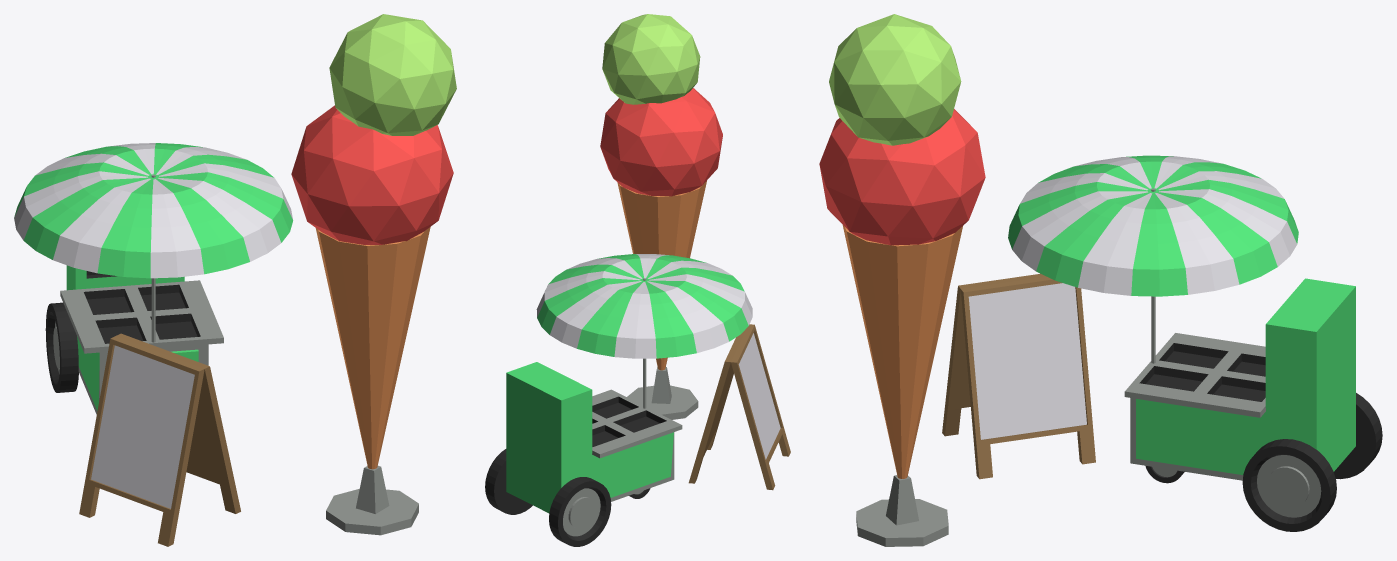
File: icecream.fbx
3 renders of one model, left to right at view 1: azimuth 30°, elevation 25°; view 2: azimuth 150°, elevation 25°; view 3: azimuth 270°, elevation 25°, orthographic. The views are drawn at different scales.
Parts seen in each view (by area): view 1: icecream; view 2: icecream; view 3: icecream.
Part boxes in pixels (x1,y1,x2,y2): icecream: (14, 14, 456, 546); icecream: (485, 14, 790, 546); icecream: (819, 14, 1382, 546).
Bounding box in the file's own units: 114 × 185 × 183.
